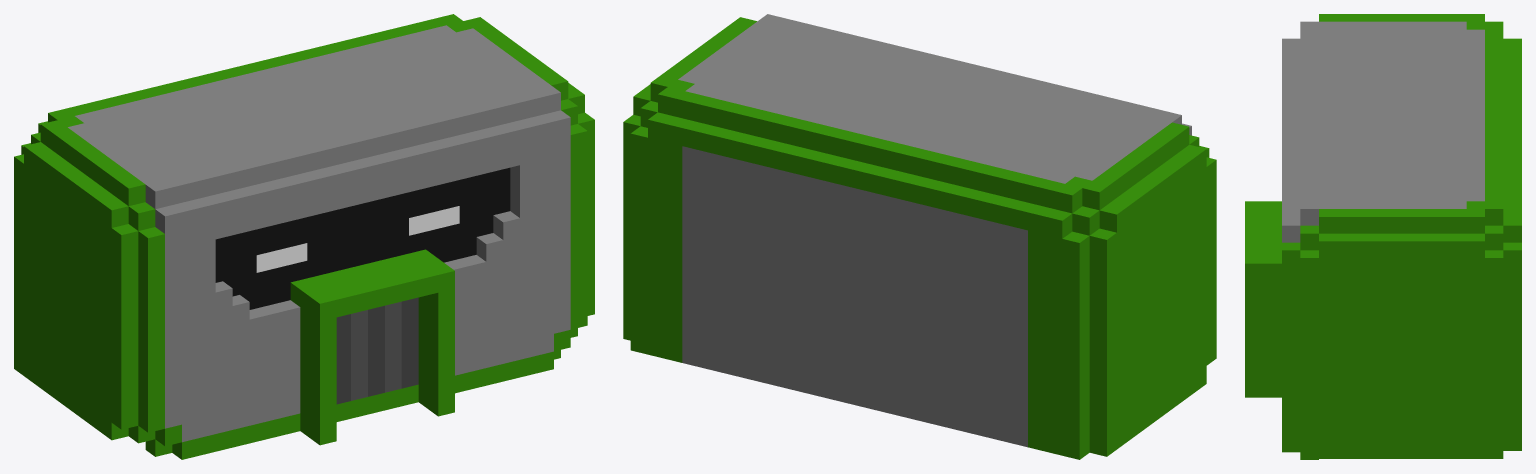
File: RbtHead.obj
3 renders of one model, left to right at view 1: azimuth 30°, elevation 25°; view 2: azimuth 150°, elevation 25°; view 3: azimuth 270°, elevation 25°, orthographic. The views are drawn at different scales.
Size of the model in its own units: 28 by 15 by 15.
1 material, 1 textured.
